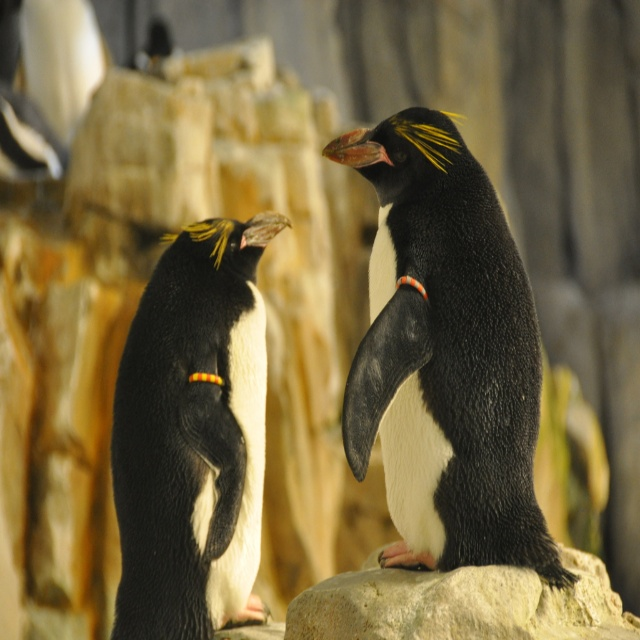Penguin: (322, 107, 582, 593), (106, 210, 293, 640)
